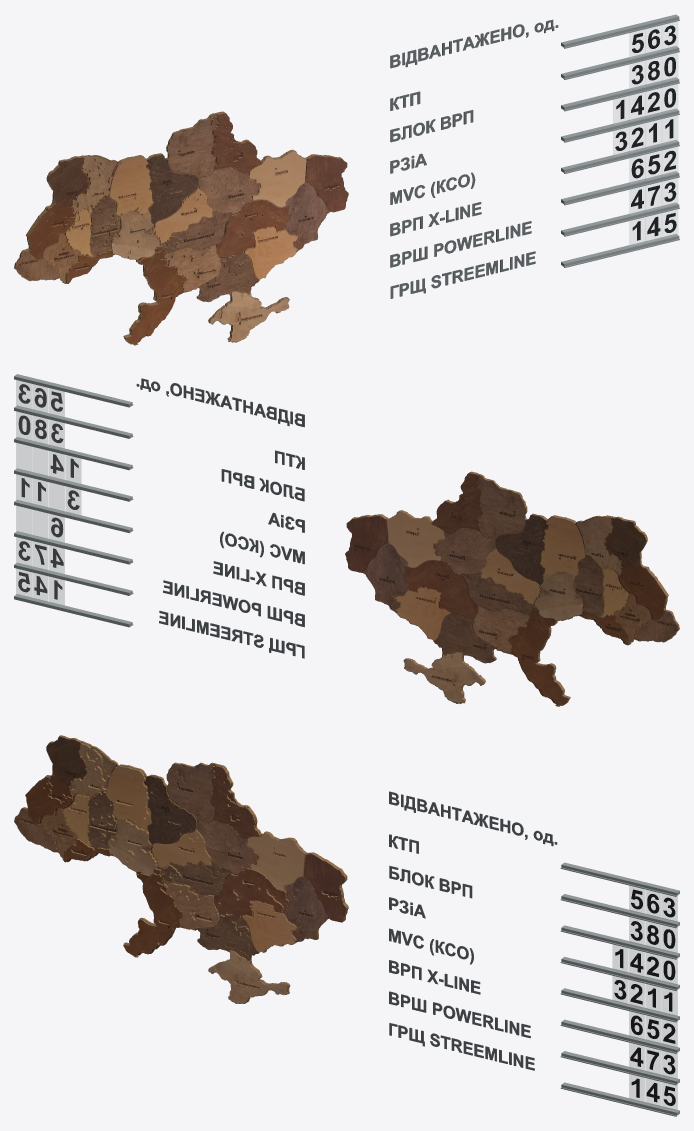
File: edsSignage-5.glb
The picture shows the model from 3 angles, top to bottom: view 1: azimuth 30°, elevation 25°; view 2: azimuth 150°, elevation 25°; view 3: azimuth 330°, elevation 25°; orthographic projection.
Parts seen in each view (by area): view 1: eds-ukraine/ukraine-printed-wood-top, eds-ukraine/anodized-aluminum, eds-ukraine/clear-acrylic, eds-ukraine/brushed-metal-letters, eds-ukraine/map-natural-plywood-edge, eds-ukraine/sign-print-black; view 2: eds-ukraine/ukraine-printed-wood-top, eds-ukraine/clear-acrylic, eds-ukraine/brushed-metal-letters, eds-ukraine/anodized-aluminum, eds-ukraine/sign-print-black, eds-ukraine/map-natural-plywood-edge; view 3: eds-ukraine/ukraine-printed-wood-top, eds-ukraine/anodized-aluminum, eds-ukraine/clear-acrylic, eds-ukraine/brushed-metal-letters, eds-ukraine/map-natural-plywood-edge, eds-ukraine/sign-print-black.
Boxes of the visible parts, left/top/right/bottom form: eds-ukraine/ukraine-printed-wood-top: left=15, top=112, right=348, bottom=345; eds-ukraine/anodized-aluminum: left=561, top=14, right=679, bottom=267; eds-ukraine/clear-acrylic: left=613, top=21, right=677, bottom=246; eds-ukraine/brushed-metal-letters: left=390, top=19, right=558, bottom=298; eds-ukraine/map-natural-plywood-edge: left=14, top=111, right=345, bottom=345; eds-ukraine/sign-print-black: left=615, top=25, right=676, bottom=240; eds-ukraine/ukraine-printed-wood-top: left=345, top=473, right=678, bottom=706; eds-ukraine/clear-acrylic: left=16, top=380, right=81, bottom=605; eds-ukraine/brushed-metal-letters: left=136, top=378, right=304, bottom=658; eds-ukraine/anodized-aluminum: left=14, top=374, right=133, bottom=627; eds-ukraine/sign-print-black: left=18, top=384, right=79, bottom=599; eds-ukraine/map-natural-plywood-edge: left=347, top=471, right=679, bottom=706; eds-ukraine/ukraine-printed-wood-top: left=14, top=736, right=346, bottom=1003; eds-ukraine/anodized-aluminum: left=560, top=862, right=679, bottom=1116; eds-ukraine/clear-acrylic: left=612, top=886, right=677, bottom=1111; eds-ukraine/brushed-metal-letters: left=389, top=791, right=557, bottom=1070; eds-ukraine/map-natural-plywood-edge: left=15, top=735, right=348, bottom=1003; eds-ukraine/sign-print-black: left=614, top=889, right=675, bottom=1105.
Bounding box in the file's own units: 3.17 × 1.16 × 0.0315.
6 materials, 1 textured.
